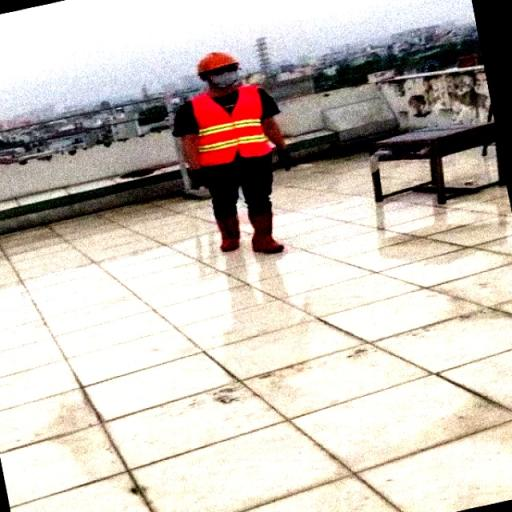Person: (171, 47, 325, 277)
boots: (195, 199, 253, 264), (245, 196, 294, 266)
gloves: (178, 160, 217, 198), (270, 139, 300, 179)
goggles: (196, 67, 246, 74)
helmet: (186, 51, 254, 74)
vest: (179, 90, 306, 172)
